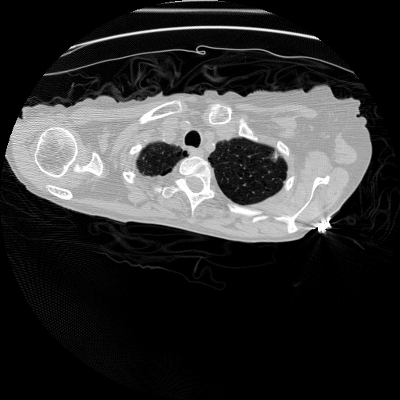nodule: (271, 154, 279, 162)
